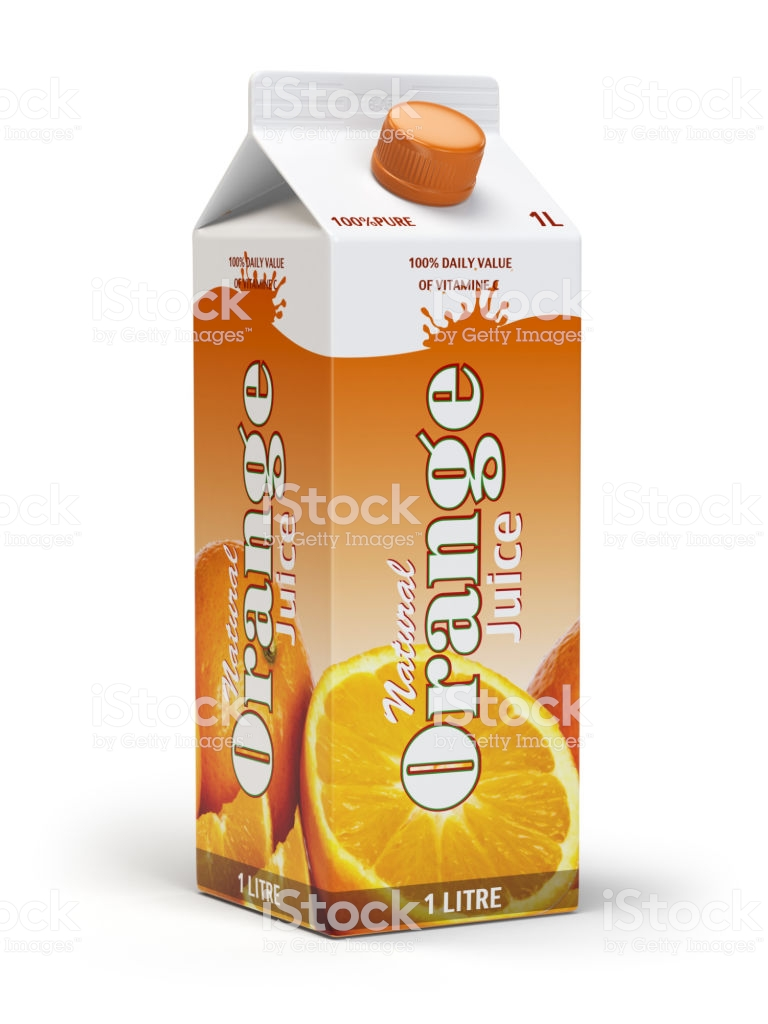Rec_Paper: (141, 52, 610, 949)
